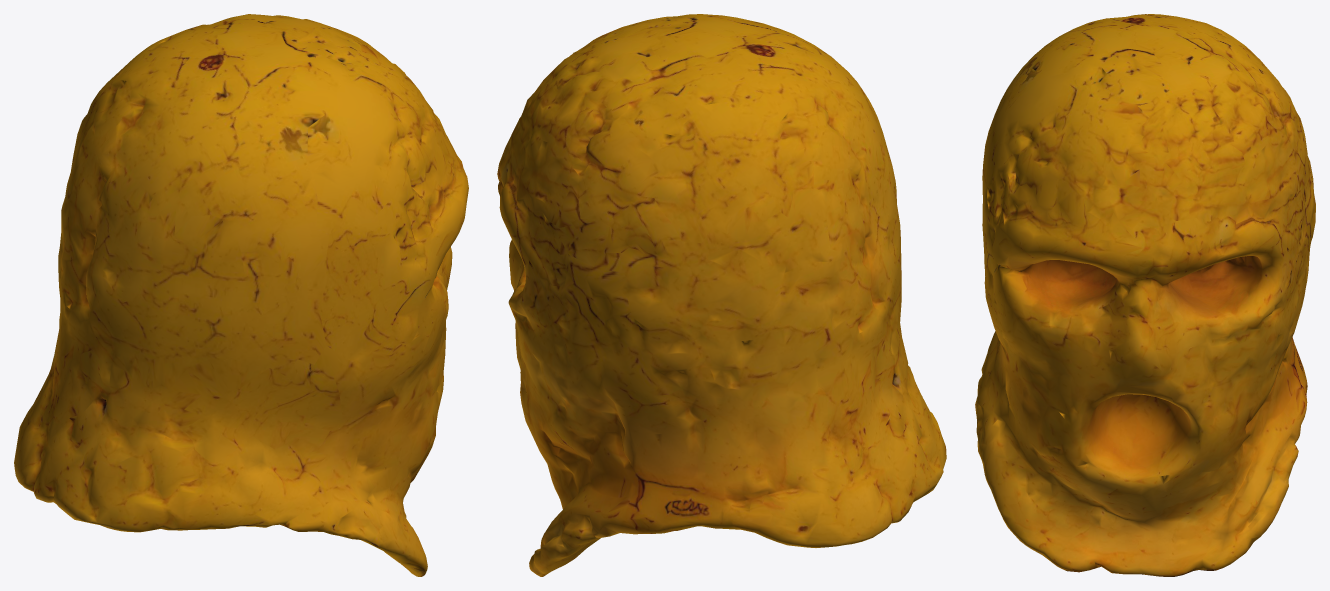
File: maske.glb
3 renders of one model, left to right at view 1: azimuth 30°, elevation 25°; view 2: azimuth 150°, elevation 25°; view 3: azimuth 270°, elevation 25°, orthographic. The views are drawn at different scales.
Parts seen in each view (by area): view 1: tripo_node_1e8b12a0-bc74-47e1-b3c4-388f6c96ad18; view 2: tripo_node_1e8b12a0-bc74-47e1-b3c4-388f6c96ad18; view 3: tripo_node_1e8b12a0-bc74-47e1-b3c4-388f6c96ad18.
Part boxes in pixels (x1,y1,x2,y2): tripo_node_1e8b12a0-bc74-47e1-b3c4-388f6c96ad18: [14, 14, 468, 576]; tripo_node_1e8b12a0-bc74-47e1-b3c4-388f6c96ad18: [497, 14, 946, 576]; tripo_node_1e8b12a0-bc74-47e1-b3c4-388f6c96ad18: [975, 14, 1315, 576].
Size of the model in its own units: 6.6 by 8.38 by 5.37.
Materials: 1 (1 with a texture image).
